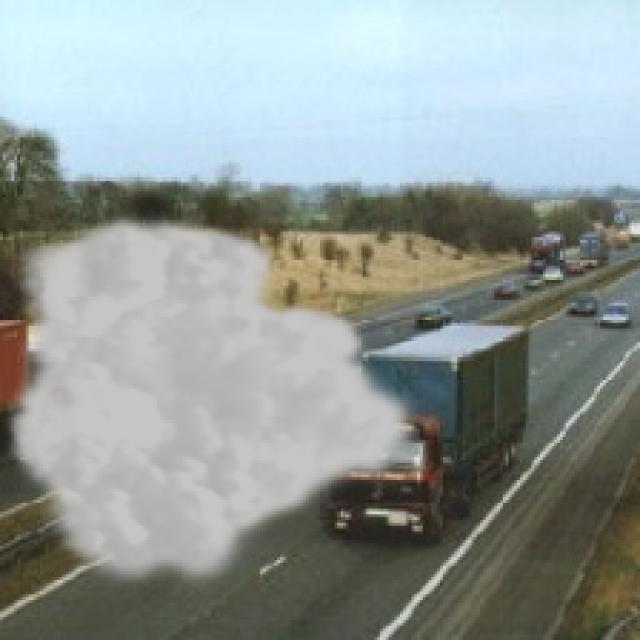Smoke: (3, 208, 426, 594)
